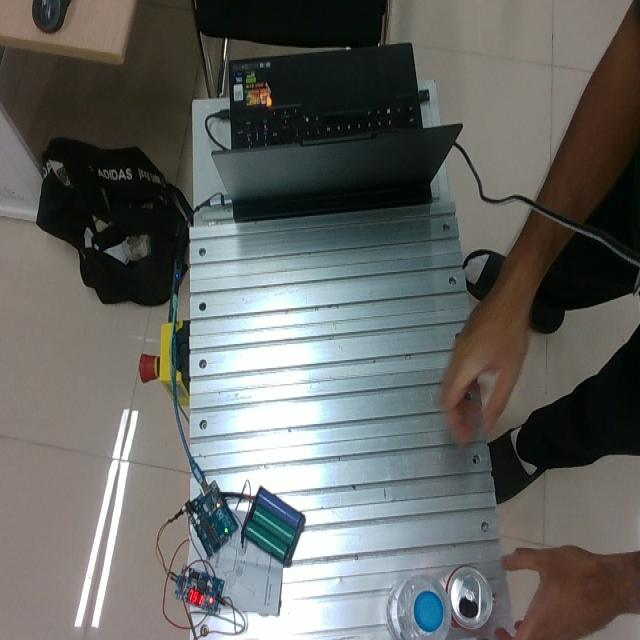lavie: (386, 572, 451, 639), (444, 564, 493, 631)
